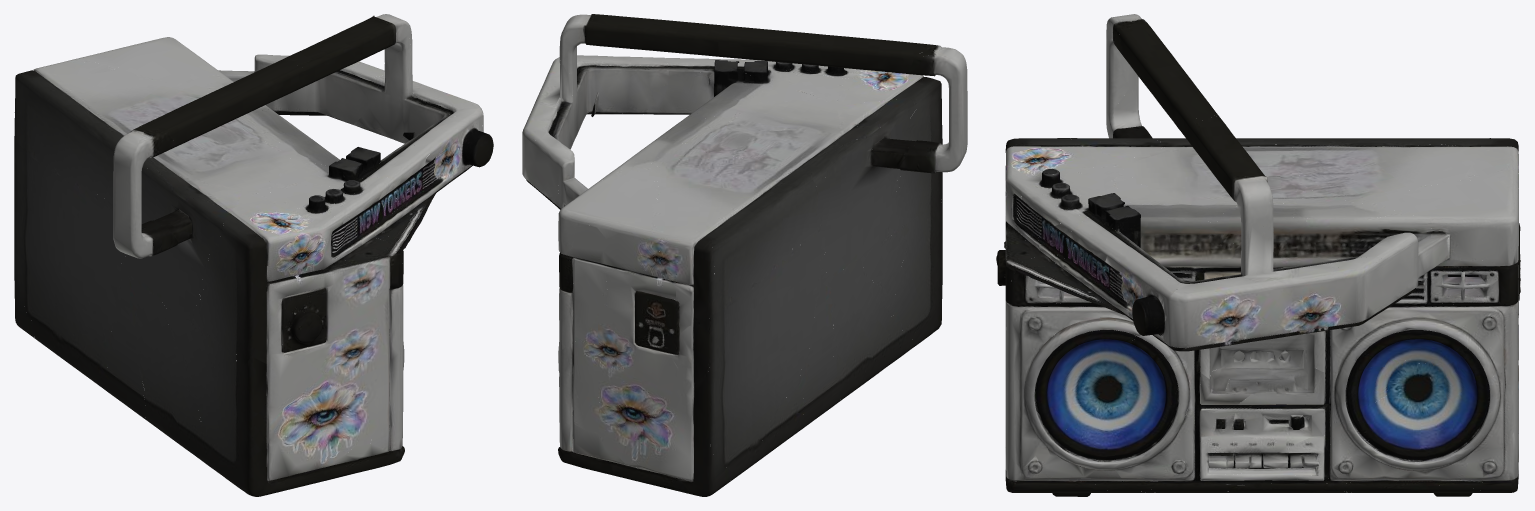
The model's file is boombox.glb.
3 renders of one model, left to right at view 1: azimuth 30°, elevation 25°; view 2: azimuth 150°, elevation 25°; view 3: azimuth 270°, elevation 25°, orthographic. The views are drawn at different scales.
Visible parts, largest first — view 1: tripo_node_5130bd55-db91-427e-b114-ad2b7072e8ab; view 2: tripo_node_5130bd55-db91-427e-b114-ad2b7072e8ab; view 3: tripo_node_5130bd55-db91-427e-b114-ad2b7072e8ab.
Part boxes in pixels (x1,y1,x2,y2): tripo_node_5130bd55-db91-427e-b114-ad2b7072e8ab: (14, 14, 493, 496); tripo_node_5130bd55-db91-427e-b114-ad2b7072e8ab: (522, 14, 967, 496); tripo_node_5130bd55-db91-427e-b114-ad2b7072e8ab: (996, 14, 1520, 496).
Bounding box in the file's own units: 0.9332 × 0.7842 × 1.
Materials: 1 (1 with a texture image).
